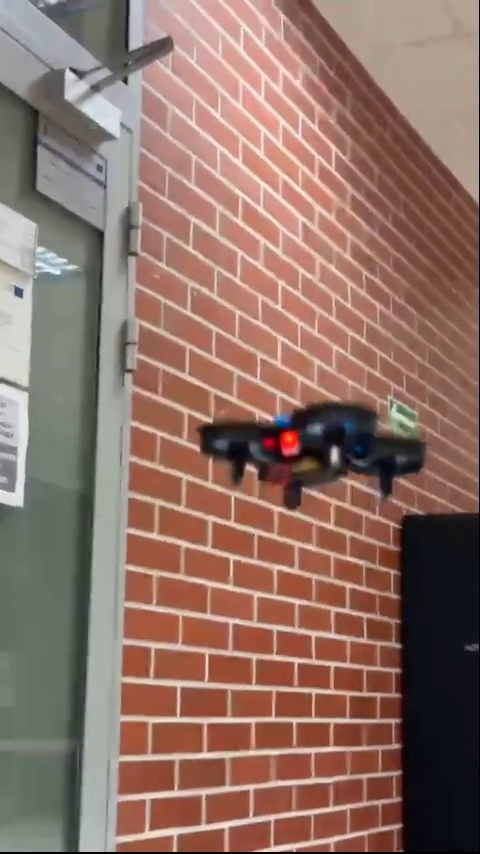drone: (203, 400, 426, 502)
